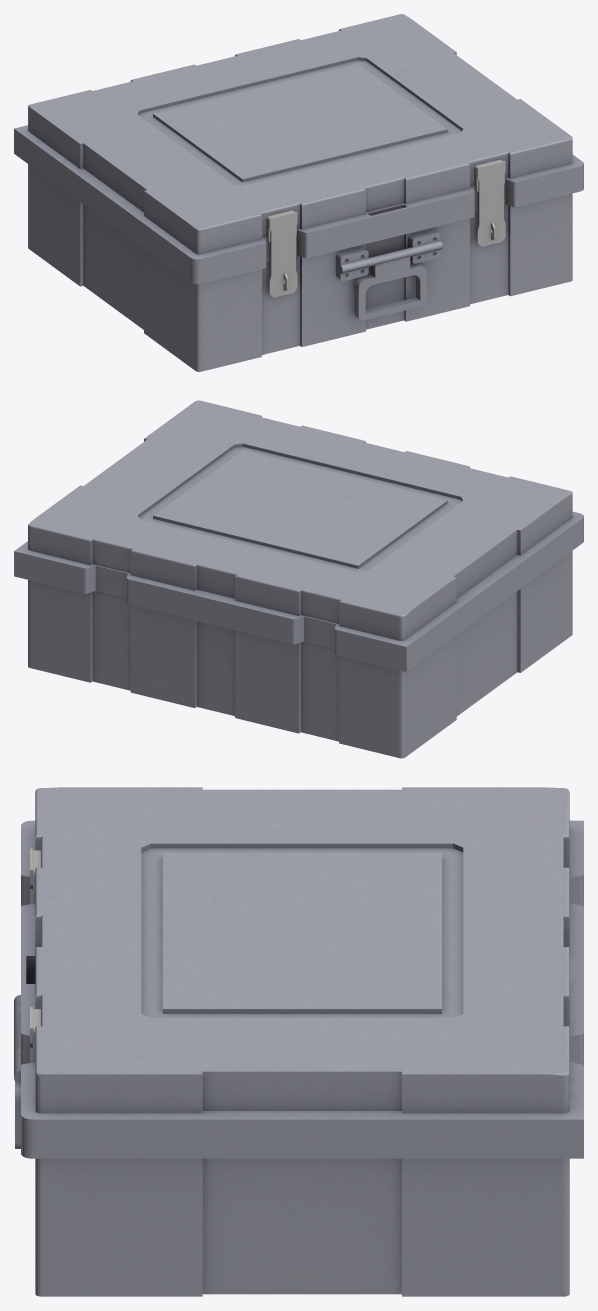
File: cashbox.serva.156.obj
The picture shows the model from 3 angles, top to bottom: view 1: azimuth 30°, elevation 25°; view 2: azimuth 150°, elevation 25°; view 3: azimuth 270°, elevation 25°; orthographic projection. The views are drawn at different scales.
Visible parts, largest first — view 1: Box01, Box11; view 2: Box01; view 3: Box01, Box11.
Part boxes in pixels (x1,y1,x2,y2): Box01: (14,14,583,371); Box11: (266,159,505,297); Box01: (14,400,583,758); Box01: (14,787,583,1296); Box11: (30,848,40,1062).
Bounding box in the file's own units: 49 × 17 × 39.47.
